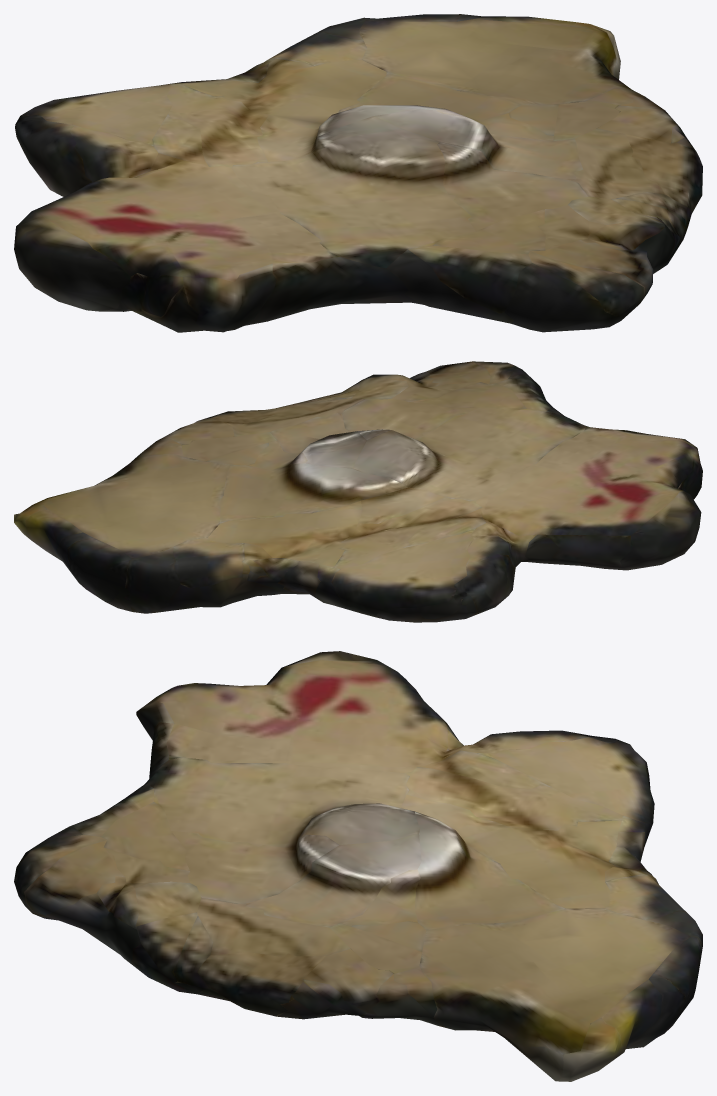
File: hall.glb
3 renders of one model, top to bottom at view 1: azimuth 30°, elevation 25°; view 2: azimuth 150°, elevation 25°; view 3: azimuth 270°, elevation 25°, orthographic. The views are drawn at different scales.
Size of the model in its own units: 0.6284 by 0.1122 by 0.5463.
Materials: 1 (1 with a texture image).
